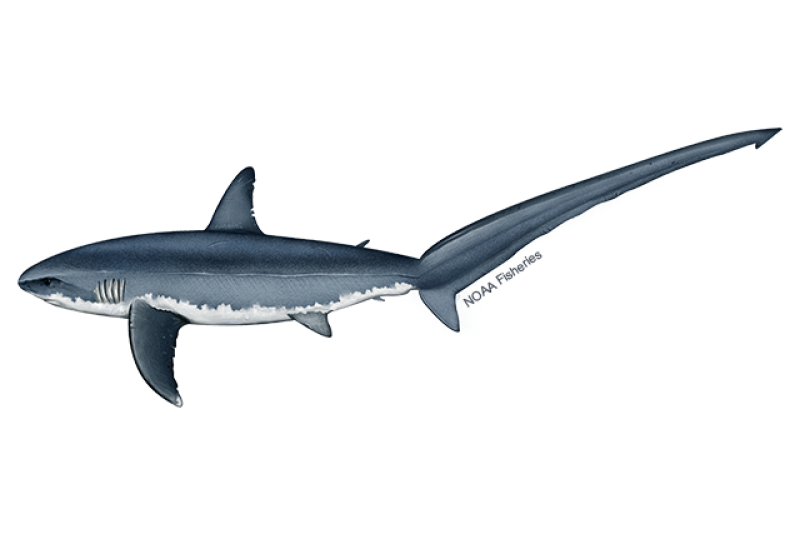Shark: (21, 127, 778, 404)
